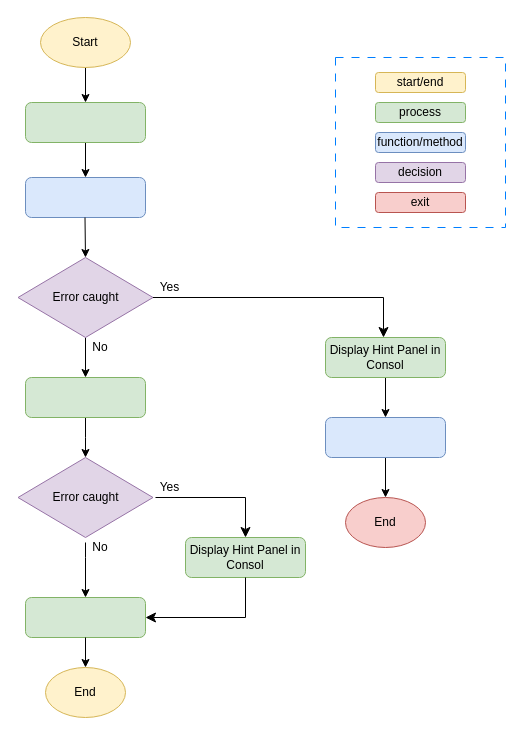
This 523x735 diagram has some shape labels left out. Here are the shapes that lost their labels. From the top down, the centre of each, then its label:
pixel 85 122: Wrapp Runscript and its functions
pixel 85 197: SimInit
pixel 85 397: Run Normal main loop logic
pixel 385 437: Run SimEnd
pixel 85 617: Continue Normal main loop logic
